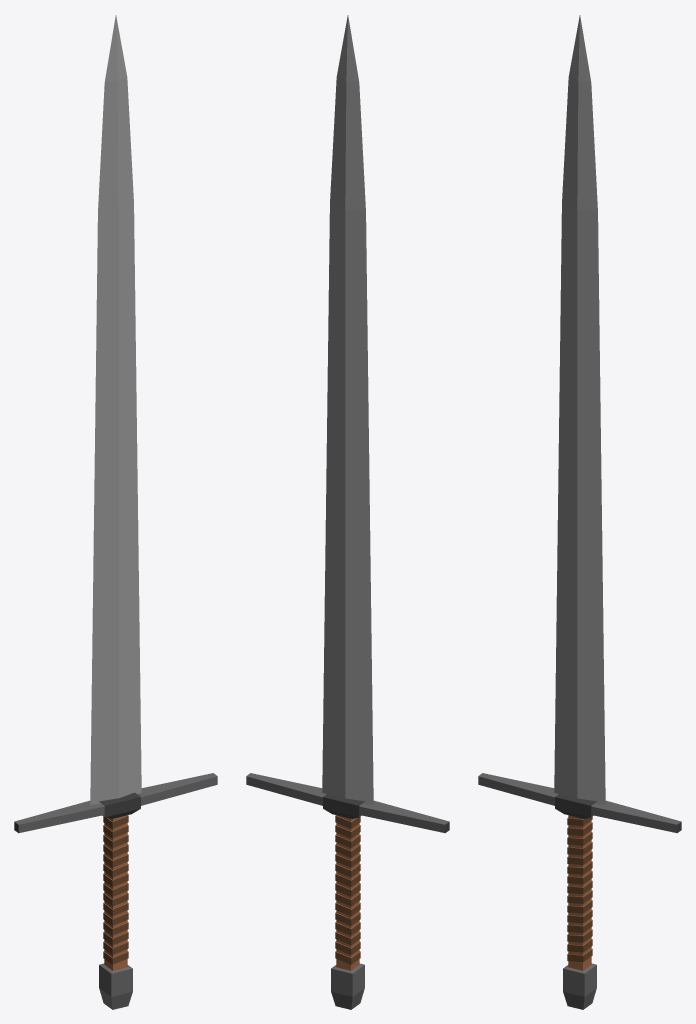
Rendered from sword.fbx.
The picture shows the model from 3 angles, left to right: view 1: azimuth 30°, elevation 25°; view 2: azimuth 150°, elevation 25°; view 3: azimuth 330°, elevation 25°; orthographic projection.
Parts seen in each view (by area): view 1: sword; view 2: sword; view 3: sword.
Part boxes in pixels (bbox=[...]): sword: bbox=[14, 15, 217, 1009]; sword: bbox=[246, 15, 449, 1009]; sword: bbox=[478, 15, 681, 1009].
Bounding box in the file's own units: 266 × 1266 × 32.02.
1 material, 1 textured.
